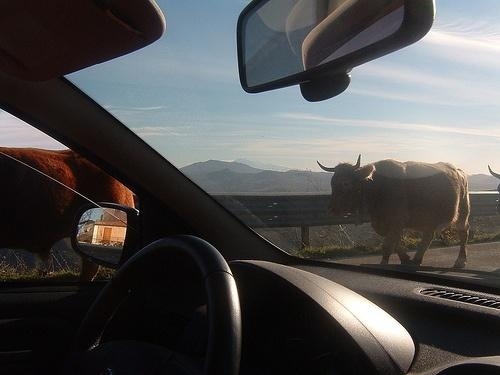cow: (1, 147, 135, 284), (315, 155, 472, 270)
